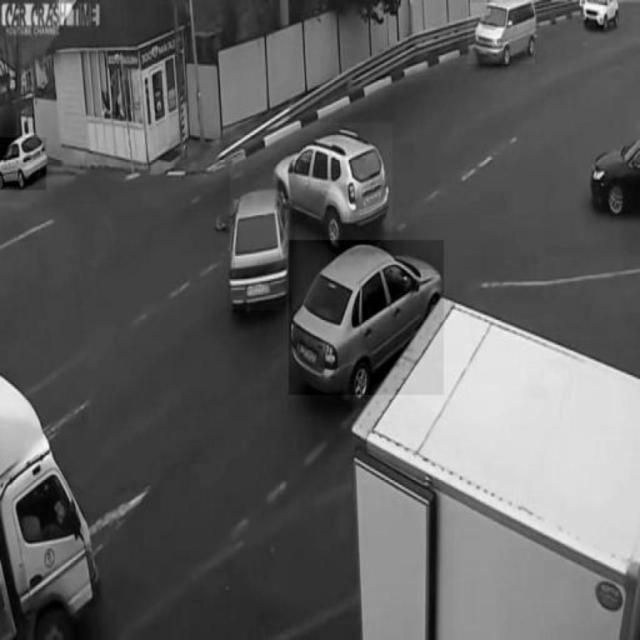accident: (230, 123, 394, 310)
vehicle: (289, 240, 443, 394), (467, 3, 535, 64), (1, 138, 47, 190)
